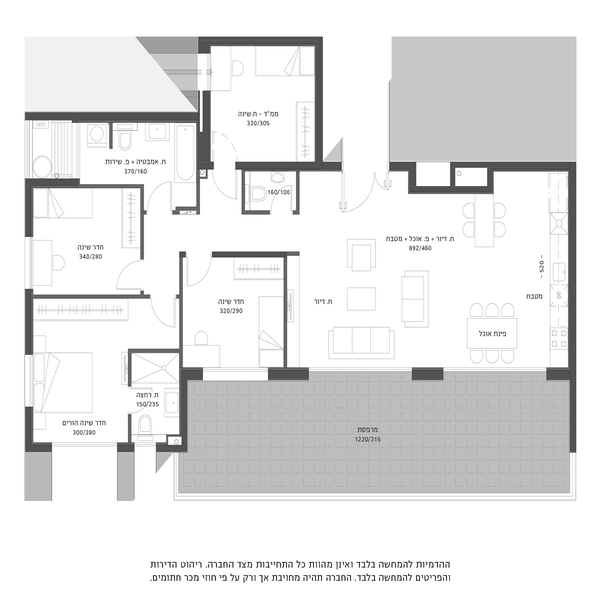door: (338, 165, 396, 215), (213, 159, 245, 211), (112, 256, 152, 294), (143, 295, 180, 336), (187, 250, 215, 292), (141, 179, 176, 209)
room: (390, 156, 585, 384), (293, 156, 417, 379), (20, 292, 183, 450), (190, 32, 332, 180), (19, 179, 149, 304), (18, 105, 199, 192), (183, 244, 295, 380)
wall: (564, 165, 580, 453), (23, 107, 197, 128), (190, 33, 324, 52), (310, 41, 327, 164), (176, 249, 189, 376), (133, 179, 152, 258), (486, 160, 579, 175), (408, 184, 506, 198), (32, 290, 153, 301), (20, 284, 39, 354), (194, 94, 211, 171), (23, 174, 82, 194), (82, 178, 147, 195), (234, 160, 340, 170), (179, 364, 191, 452), (21, 172, 37, 235), (282, 250, 290, 367), (206, 250, 298, 260), (122, 344, 184, 358), (410, 361, 443, 387), (293, 173, 309, 222), (25, 403, 39, 452), (240, 172, 254, 221), (124, 343, 135, 394), (393, 157, 418, 178), (124, 408, 137, 448), (23, 438, 52, 451), (157, 439, 187, 451), (118, 436, 137, 453), (266, 370, 306, 376)
window: (203, 359, 266, 383), (24, 358, 42, 412), (19, 239, 36, 289), (547, 362, 574, 384), (447, 158, 487, 172)
